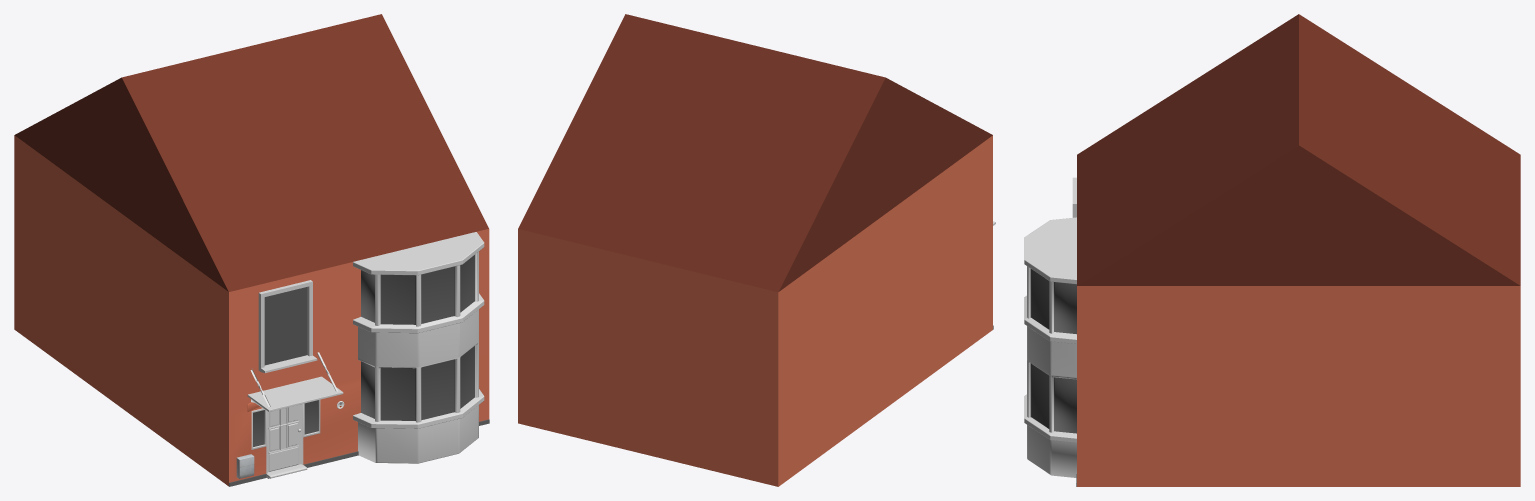
Rendered from house.glb.
3 renders of one model, left to right at view 1: azimuth 30°, elevation 25°; view 2: azimuth 150°, elevation 25°; view 3: azimuth 270°, elevation 25°, orthographic. The views are drawn at different scales.
Parts seen in each view (by area): view 1: Roof, Walls, Front, FrontWall, FrontWindowSill, WindowFrame, Door, DoorFrame, BottomTrimmings; view 2: Walls, Roof; view 3: Roof, Walls, Front, FrontWindowSill.
Boxes of the visible parts, box(x1,y1,x2,y2) form: Roof: box(14, 14, 488, 291); Walls: box(14, 135, 228, 486); Front: box(358, 251, 478, 463); FrontWall: box(229, 229, 489, 482); FrontWindowSill: box(353, 232, 484, 428); WindowFrame: box(258, 280, 312, 371); Door: box(268, 404, 301, 472); DoorFrame: box(247, 376, 343, 411); BottomTrimmings: box(229, 419, 489, 486); Walls: box(518, 135, 992, 486); Roof: box(518, 14, 992, 292); Roof: box(1077, 14, 1520, 285); Walls: box(1077, 286, 1520, 486); Front: box(1027, 266, 1076, 477); FrontWindowSill: box(1024, 217, 1076, 442).
Size of the model in its own units: 7 by 8.5 by 11.19.
Materials: 9 (2 with a texture image).
